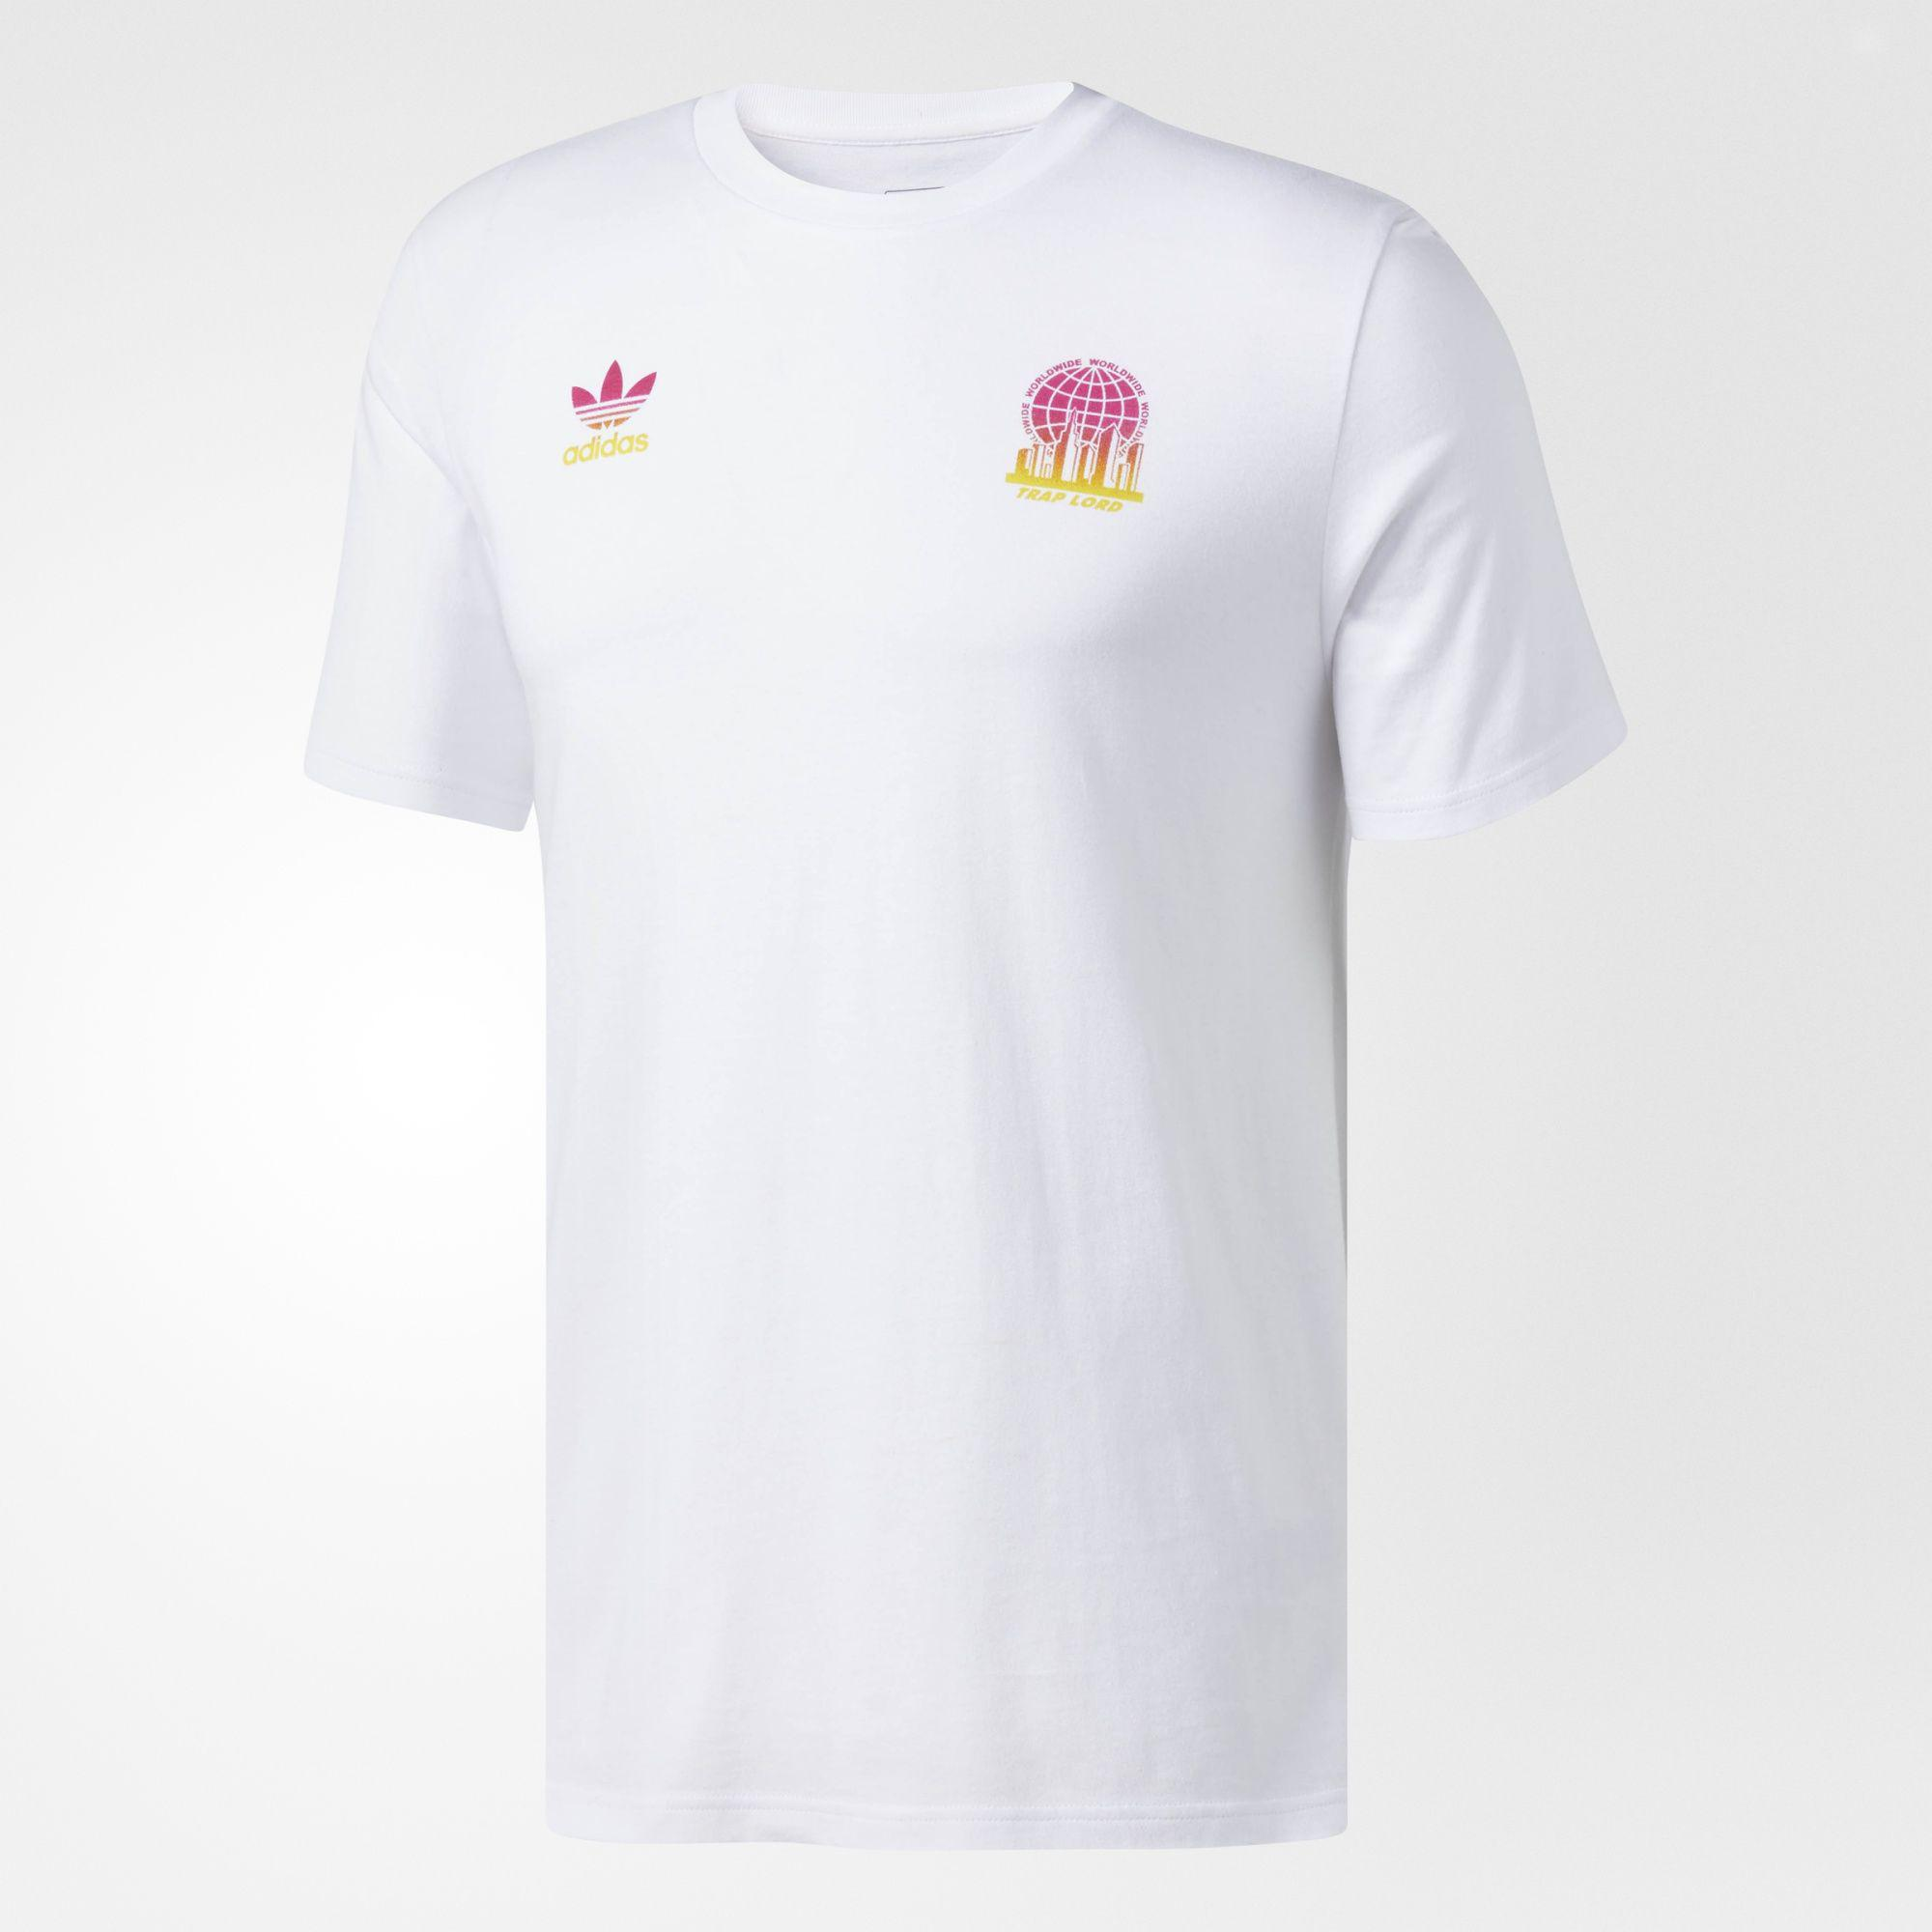teeshirt: (196, 23, 1872, 1870)
